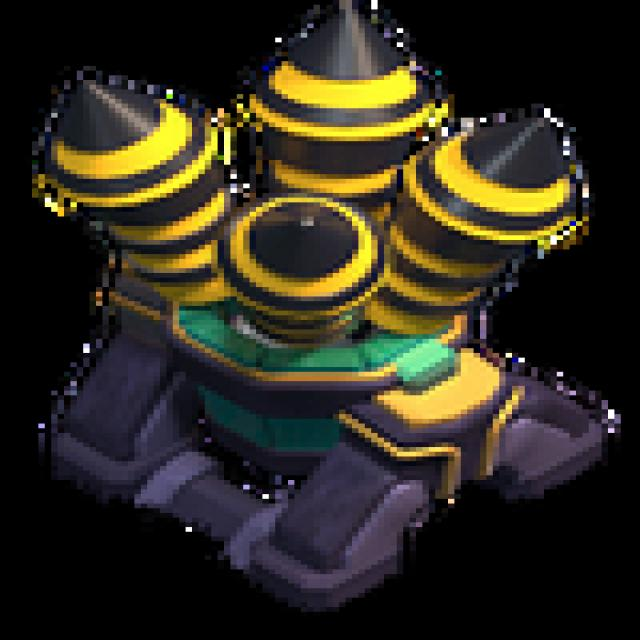air_defense: (28, 1, 620, 628)
